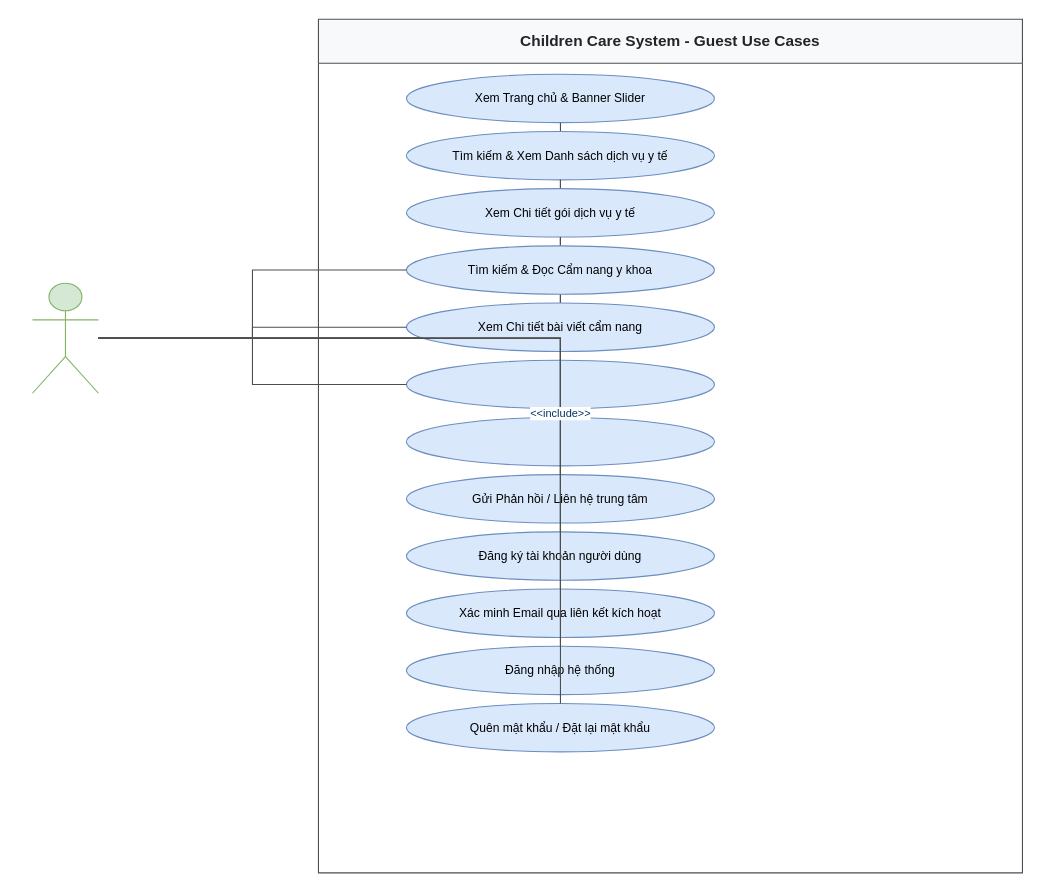
Image size: 1042x892. Some labels were removed from this diagram. Here are the shapes that lost their labels. From the top down, the box of each, then its label:
(31, 282, 98, 393): Khách vãng lai (Guest)
(405, 359, 714, 409): Xem Giỏ dịch vụ & Đặt hẹn khám
(405, 416, 714, 466): Nhập thông tin người nhận & Hoàn tất
